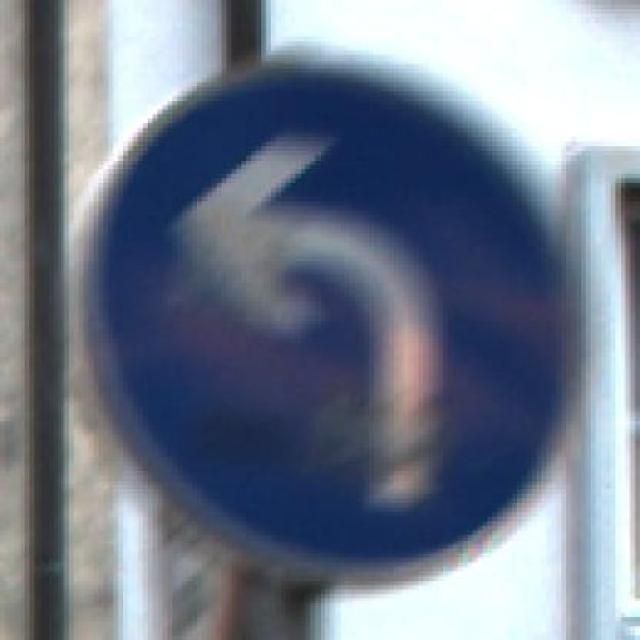Turn left ahead: (57, 36, 618, 593)
